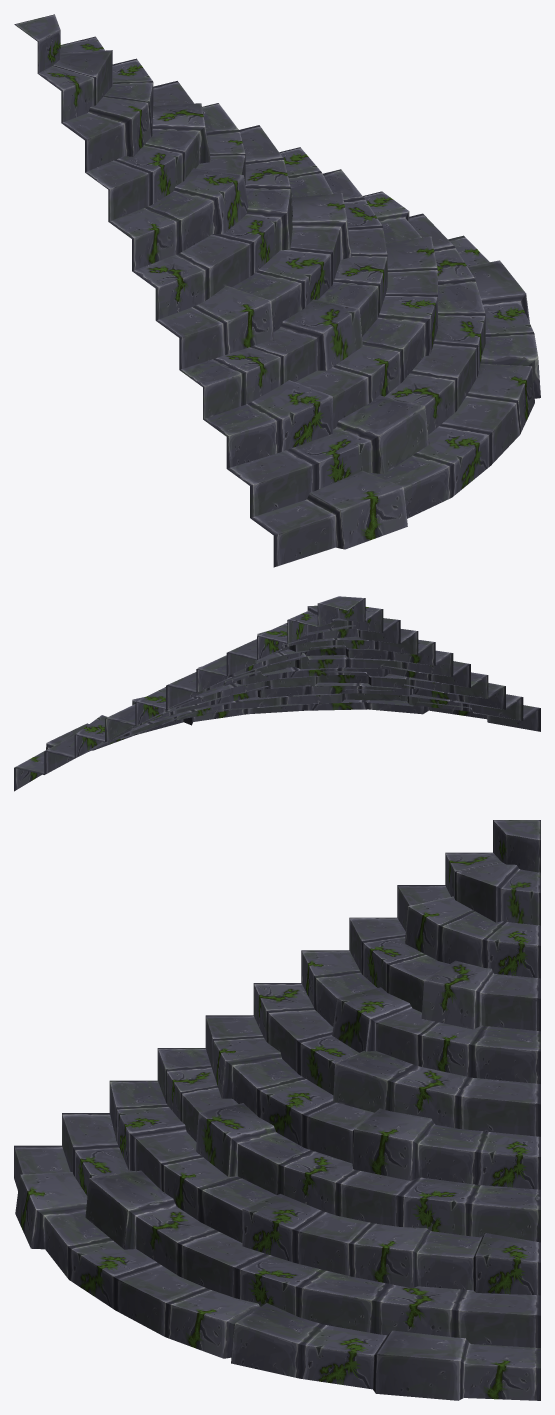
Rendered from MOD_Stairs_01_E_convex_2.fbx.
3 renders of one model, top to bottom at view 1: azimuth 30°, elevation 25°; view 2: azimuth 150°, elevation 25°; view 3: azimuth 270°, elevation 25°, orthographic. The views are drawn at different scales.
Parts seen in each view (by area): view 1: MOD_Stairs_01_E_convex_2; view 2: MOD_Stairs_01_E_convex_2; view 3: MOD_Stairs_01_E_convex_2.
Boxes of the visible parts, left/top/right/bottom form: MOD_Stairs_01_E_convex_2: left=14, top=14, right=540, bottom=567; MOD_Stairs_01_E_convex_2: left=14, top=596, right=540, bottom=791; MOD_Stairs_01_E_convex_2: left=14, top=820, right=540, bottom=1400.
Size of what is drawn, in the model's own units: 400 by 300 by 400.
